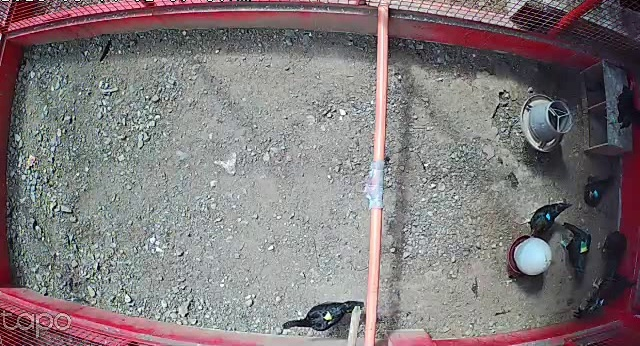Chicken: (277, 293, 369, 334), (553, 219, 593, 281), (519, 197, 571, 243), (580, 170, 617, 209), (595, 229, 631, 257)
Rooster: (570, 268, 639, 320)
Saddle_Color_Blue: (545, 212, 551, 220)
Saddle_Color_Yellow: (322, 312, 333, 322)
Saddle_Color_YellowGreen: (579, 241, 589, 254)
